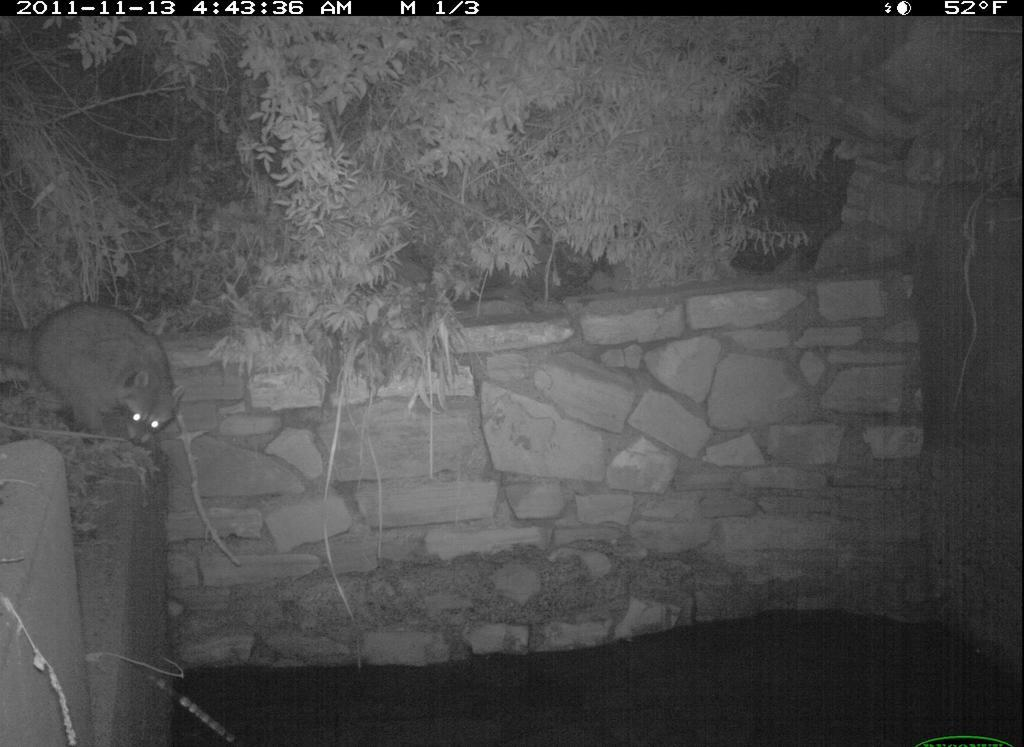raccoon: (2, 278, 193, 466)
